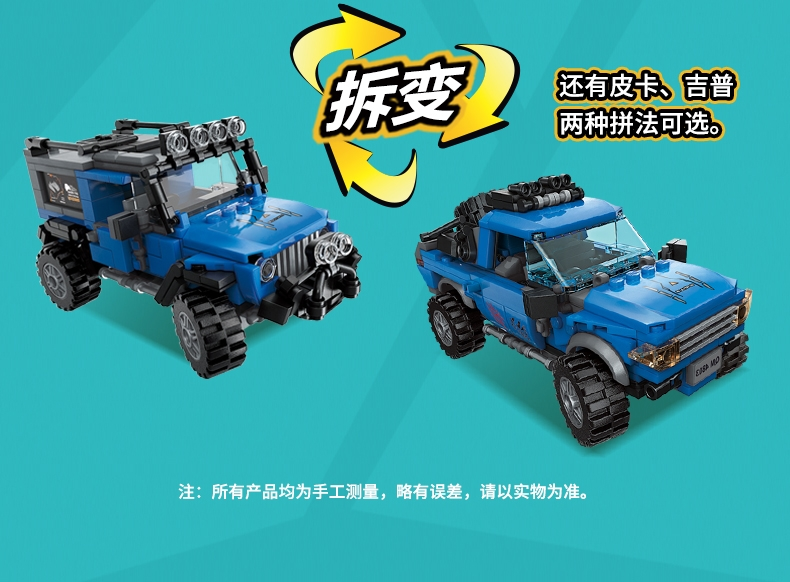Car: (409, 169, 766, 460), (16, 106, 380, 384)
